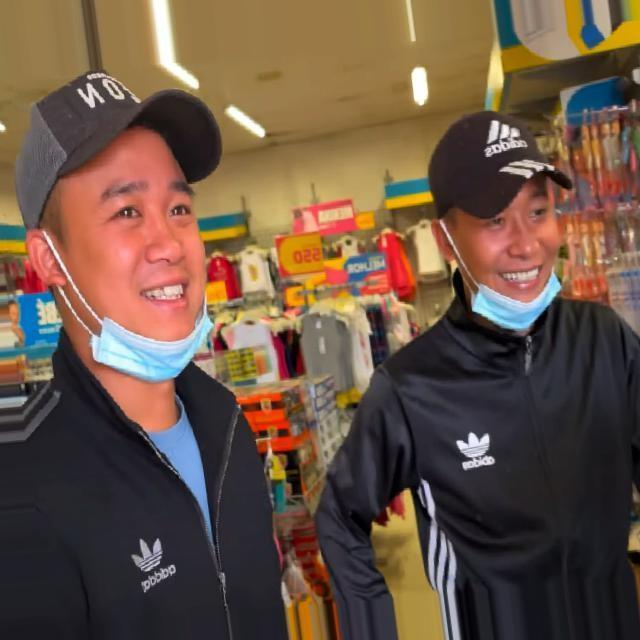hairnet: (81, 176, 213, 378), (465, 216, 559, 324)
